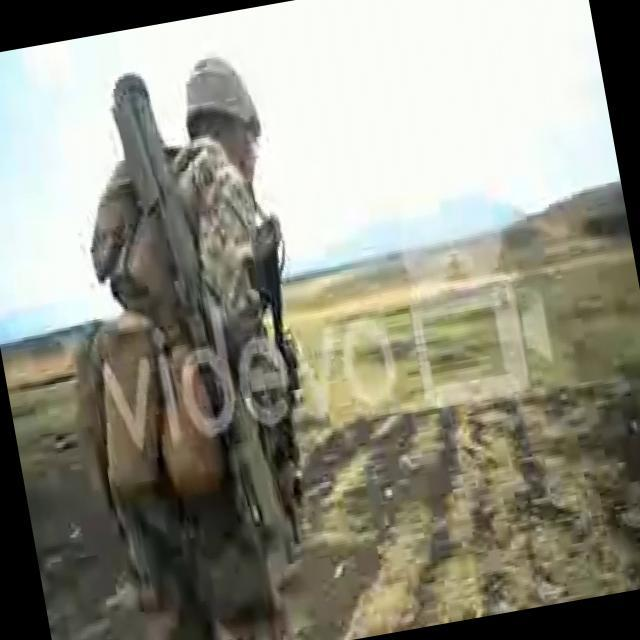rocket: (110, 68, 282, 548)
